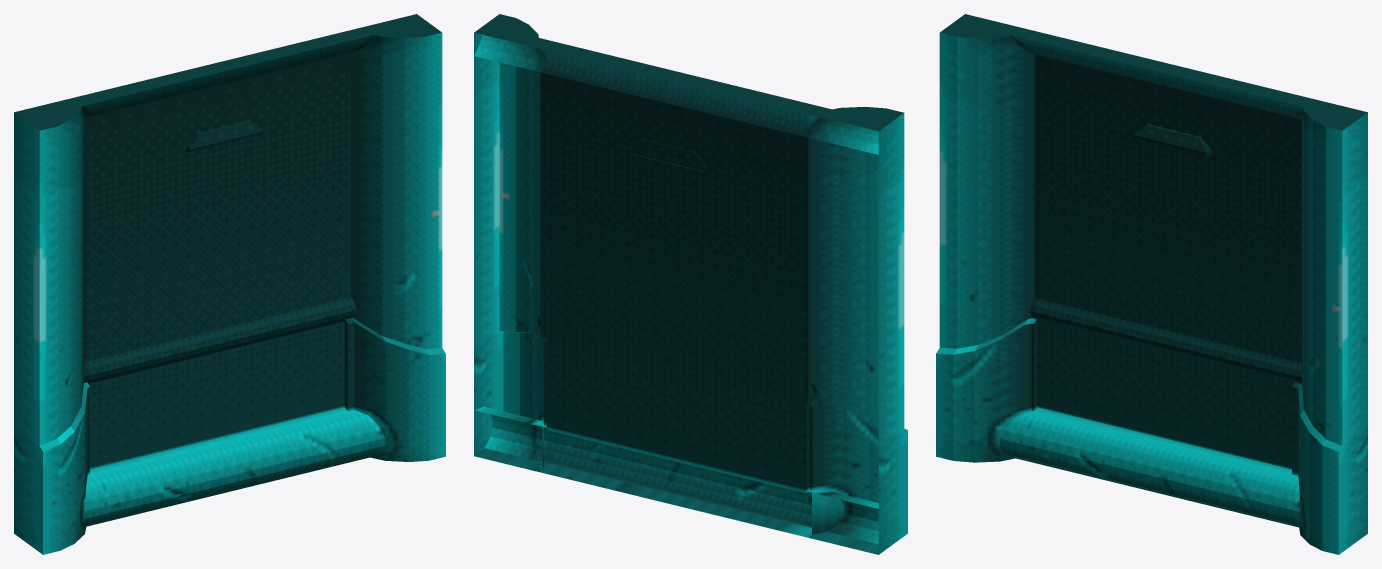
Rendered from stor1_4.fbx.
The picture shows the model from 3 angles, left to right: view 1: azimuth 30°, elevation 25°; view 2: azimuth 150°, elevation 25°; view 3: azimuth 330°, elevation 25°; orthographic projection.
Parts seen in each view (by area): view 1: stor1_4_mesh, stor1_1_mesh_stor1_3light; view 2: stor1_4_mesh; view 3: stor1_4_mesh, stor1_1_mesh_stor1_3light.
Boxes of the visible parts, left/top/right/bottom form: stor1_4_mesh: left=14, top=14, right=445, bottom=554; stor1_1_mesh_stor1_3light: left=186, top=120, right=264, bottom=152; stor1_4_mesh: left=474, top=14, right=907, bottom=554; stor1_4_mesh: left=936, top=14, right=1367, bottom=554; stor1_1_mesh_stor1_3light: left=1133, top=124, right=1211, bottom=155.
Size of the model in its own units: 256 by 256 by 32.4.
